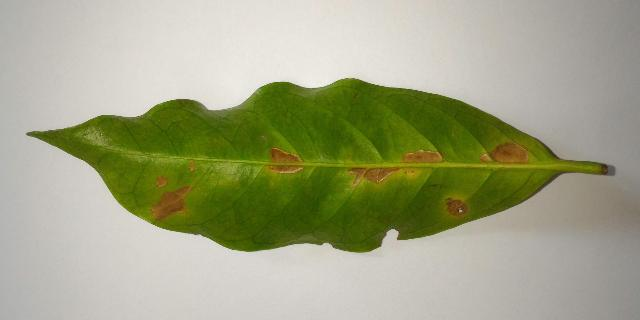cercospora: (348, 150, 442, 186), (151, 186, 192, 221), (479, 142, 529, 165), (268, 148, 303, 174), (445, 198, 469, 219), (156, 176, 168, 187), (189, 162, 195, 171)
